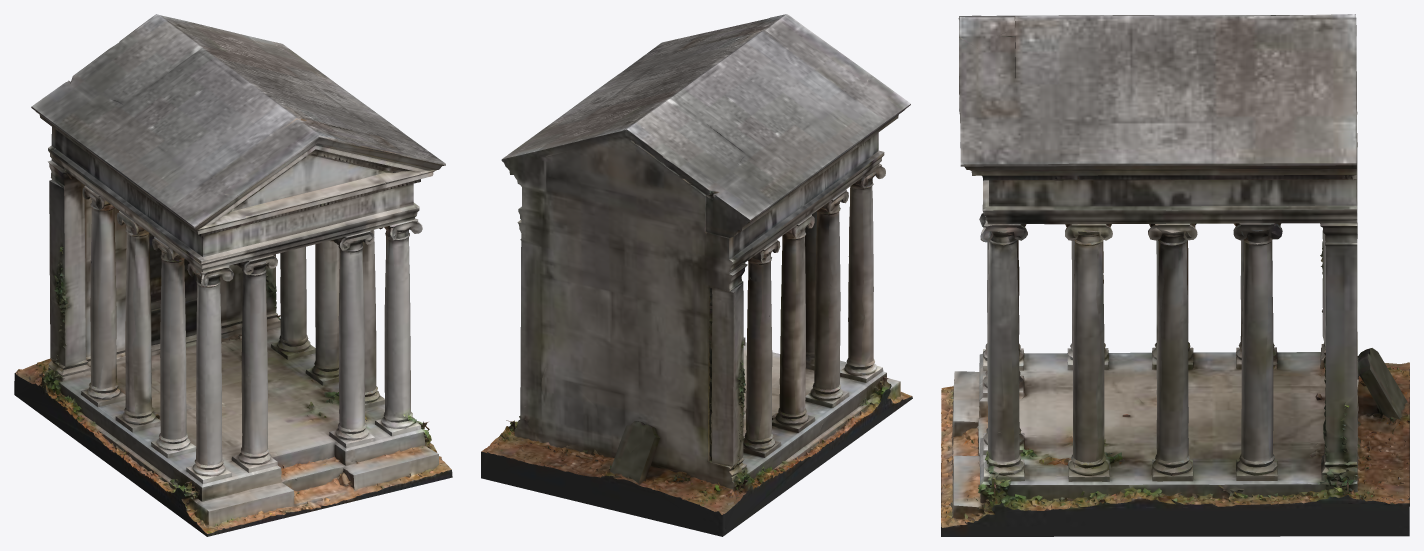
File: preview.glb
The picture shows the model from 3 angles, left to right: view 1: azimuth 30°, elevation 25°; view 2: azimuth 150°, elevation 25°; view 3: azimuth 270°, elevation 25°; orthographic projection. The views are drawn at different scales.
Visible parts, largest first — view 1: Mausoleum_Tomb_LP.001_glb; view 2: Mausoleum_Tomb_LP.001_glb; view 3: Mausoleum_Tomb_LP.001_glb.
Part boxes in pixels (<box>): Mausoleum_Tomb_LP.001_glb: <box>14,14,452,536</box>; Mausoleum_Tomb_LP.001_glb: <box>481,14,912,536</box>; Mausoleum_Tomb_LP.001_glb: <box>941,14,1409,536</box>.
Size of the model in its own units: 0.7156 by 1 by 0.9475.
1 material, 1 textured.
